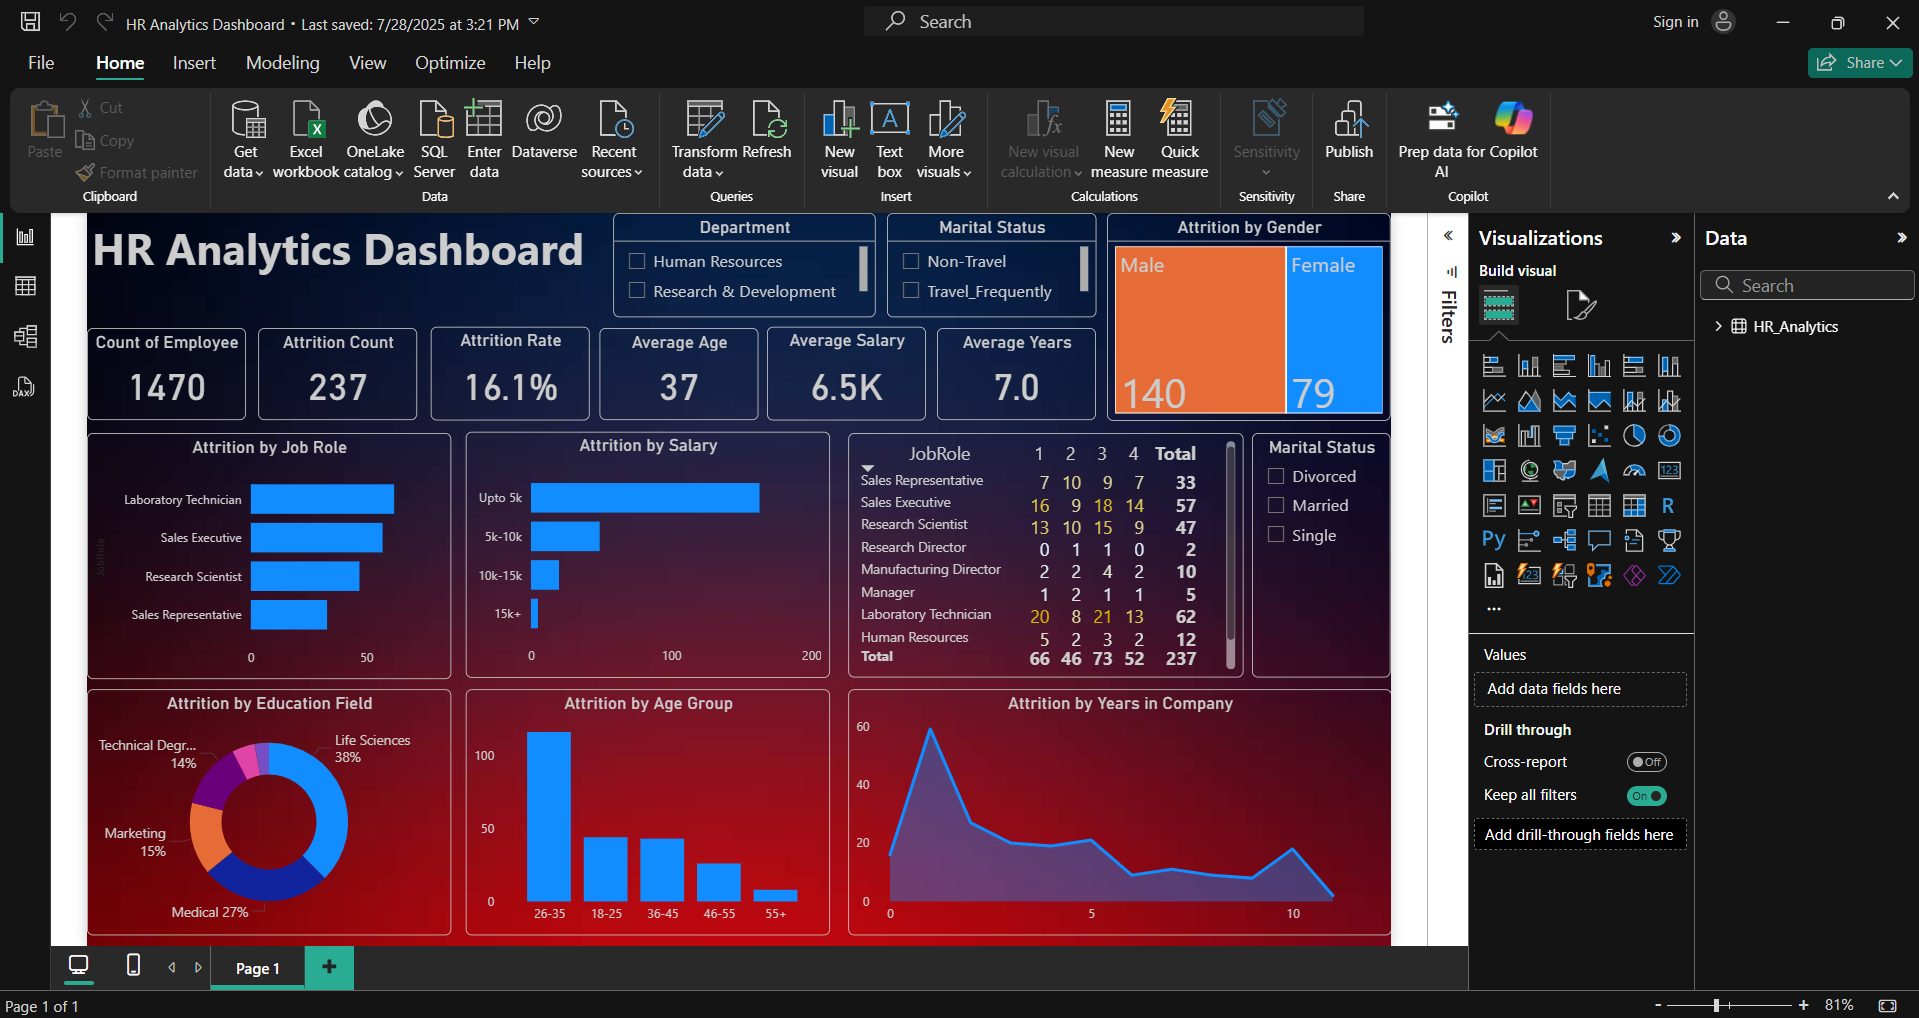

The dashboard page shown, as its layout file describes it:
{"tool":"powerbi","page":{"name":"Page 1","canvas":[1280,720],"ordinal":0},"visuals":[{"type":"card","title":"Count of Employee","fields":{"Values":["Count(HR_Analytics.EmpID)"]},"box":[0,113.3,156,90.7],"z":0},{"type":"card","title":"Average Years","fields":{"Values":["Avg(HR_Analytics.YearsAtCompany)"]},"box":[834.7,113.3,156,90.7],"z":1000},{"type":"card","title":"Attrition Count","fields":{"Values":["Sum(HR_Analytics.AttritionCount)"]},"box":[168,113.3,156,90.7],"z":2000},{"type":"card","title":"Attrition Rate ","fields":{"Values":["HR_Analytics.AttritionRate"]},"box":[337.3,112,156,92],"z":3000},{"type":"card","title":"Average Age","fields":{"Values":["Avg(HR_Analytics.Age)"]},"box":[502.7,113.3,156,90.7],"z":4000},{"type":"card","title":"Average Salary","fields":{"Values":["Avg(HR_Analytics.MonthlyIncome)"]},"box":[668,112,156,92],"z":5000},{"type":"donutChart","title":"Attrition by Education Field ","fields":{"Y":["Sum(HR_Analytics.AttritionCount)"],"Category":["HR_Analytics.EducationField"]},"box":[0,468,357.3,241.3],"z":6000},{"type":"columnChart","title":"Attrition by Age Group","fields":{"Y":["Sum(HR_Analytics.AttritionCount)"],"Category":["HR_Analytics.AgeGroup"]},"box":[372,468,357.3,241.3],"z":7000},{"type":"pivotTable","fields":{"Values":["Sum(HR_Analytics.AttritionCount)"],"Columns":["HR_Analytics.JobSatisfaction"],"Rows":["HR_Analytics.JobRole"]},"box":[746.7,216,388,240],"z":8000},{"type":"barChart","title":"Attrition by Salary","fields":{"Y":["Sum(HR_Analytics.AttritionCount)"],"Category":["HR_Analytics.SalarySlab"]},"box":[372,214.7,357.3,241.3],"z":9000},{"type":"barChart","title":"Attrition by Job Role","fields":{"Category":["HR_Analytics.JobRole"],"Y":["Sum(HR_Analytics.AttritionCount)"]},"box":[0,216,357.3,241.3],"z":10000},{"type":"areaChart","title":"Attrition by Years in Company","fields":{"Category":["HR_Analytics.YearsAtCompany"],"Y":["Sum(HR_Analytics.AttritionCount)"]},"box":[746.7,468,533.3,241.3],"z":11000},{"type":"treemap","title":"Attrition by Gender","fields":{"Group":["HR_Analytics.Gender"],"Values":["Sum(HR_Analytics.AttritionCount)"]},"box":[1001.3,0,278.7,204],"z":12000},{"type":"slicer","title":"Department","fields":{"Values":["HR_Analytics.Department"]},"box":[516,0,257.3,102.7],"z":13000},{"type":"textbox","box":[0,0,516,78.7],"z":14000},{"type":"slicer","title":"Marital Status","fields":{"Values":["HR_Analytics.MaritalStatus"]},"box":[1144,216,136,240],"z":15000},{"type":"slicer","title":"Marital Status","fields":{"Values":["HR_Analytics.BusinessTravel"]},"box":[785.3,0,205.3,102.7],"z":16000}]}

Visuals, with their boxes on the page's 1280x720 design canvas (x1, y1, x2, y2). These are canvas units, not pixel positions in the 1919x1018 screenshot, which may show the page scaled, cropped or inside an application window:
"Count of Employee" card: bbox=(0, 113, 156, 204)
"Average Years" card: bbox=(835, 113, 991, 204)
"Attrition Count" card: bbox=(168, 113, 324, 204)
"Attrition Rate " card: bbox=(337, 112, 493, 204)
"Average Age" card: bbox=(503, 113, 659, 204)
"Average Salary" card: bbox=(668, 112, 824, 204)
"Attrition by Education Field " donutChart: bbox=(0, 468, 357, 709)
"Attrition by Age Group" columnChart: bbox=(372, 468, 729, 709)
pivotTable - Sum(HR_Analytics.AttritionCount) x HR_Analytics.JobSatisfaction: bbox=(747, 216, 1135, 456)
"Attrition by Salary" barChart: bbox=(372, 215, 729, 456)
"Attrition by Job Role" barChart: bbox=(0, 216, 357, 457)
"Attrition by Years in Company" areaChart: bbox=(747, 468, 1280, 709)
"Attrition by Gender" treemap: bbox=(1001, 0, 1280, 204)
"Department" slicer: bbox=(516, 0, 773, 103)
textbox: bbox=(0, 0, 516, 79)
"Marital Status" slicer: bbox=(1144, 216, 1280, 456)
"Marital Status" slicer: bbox=(785, 0, 991, 103)
